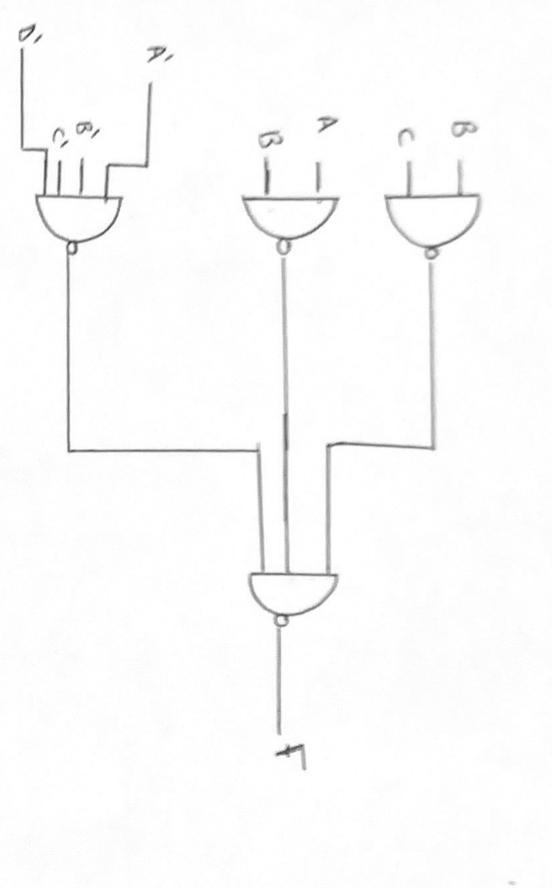NAND: (232, 543, 357, 640), (375, 178, 496, 271), (20, 182, 152, 266), (233, 187, 352, 264)
